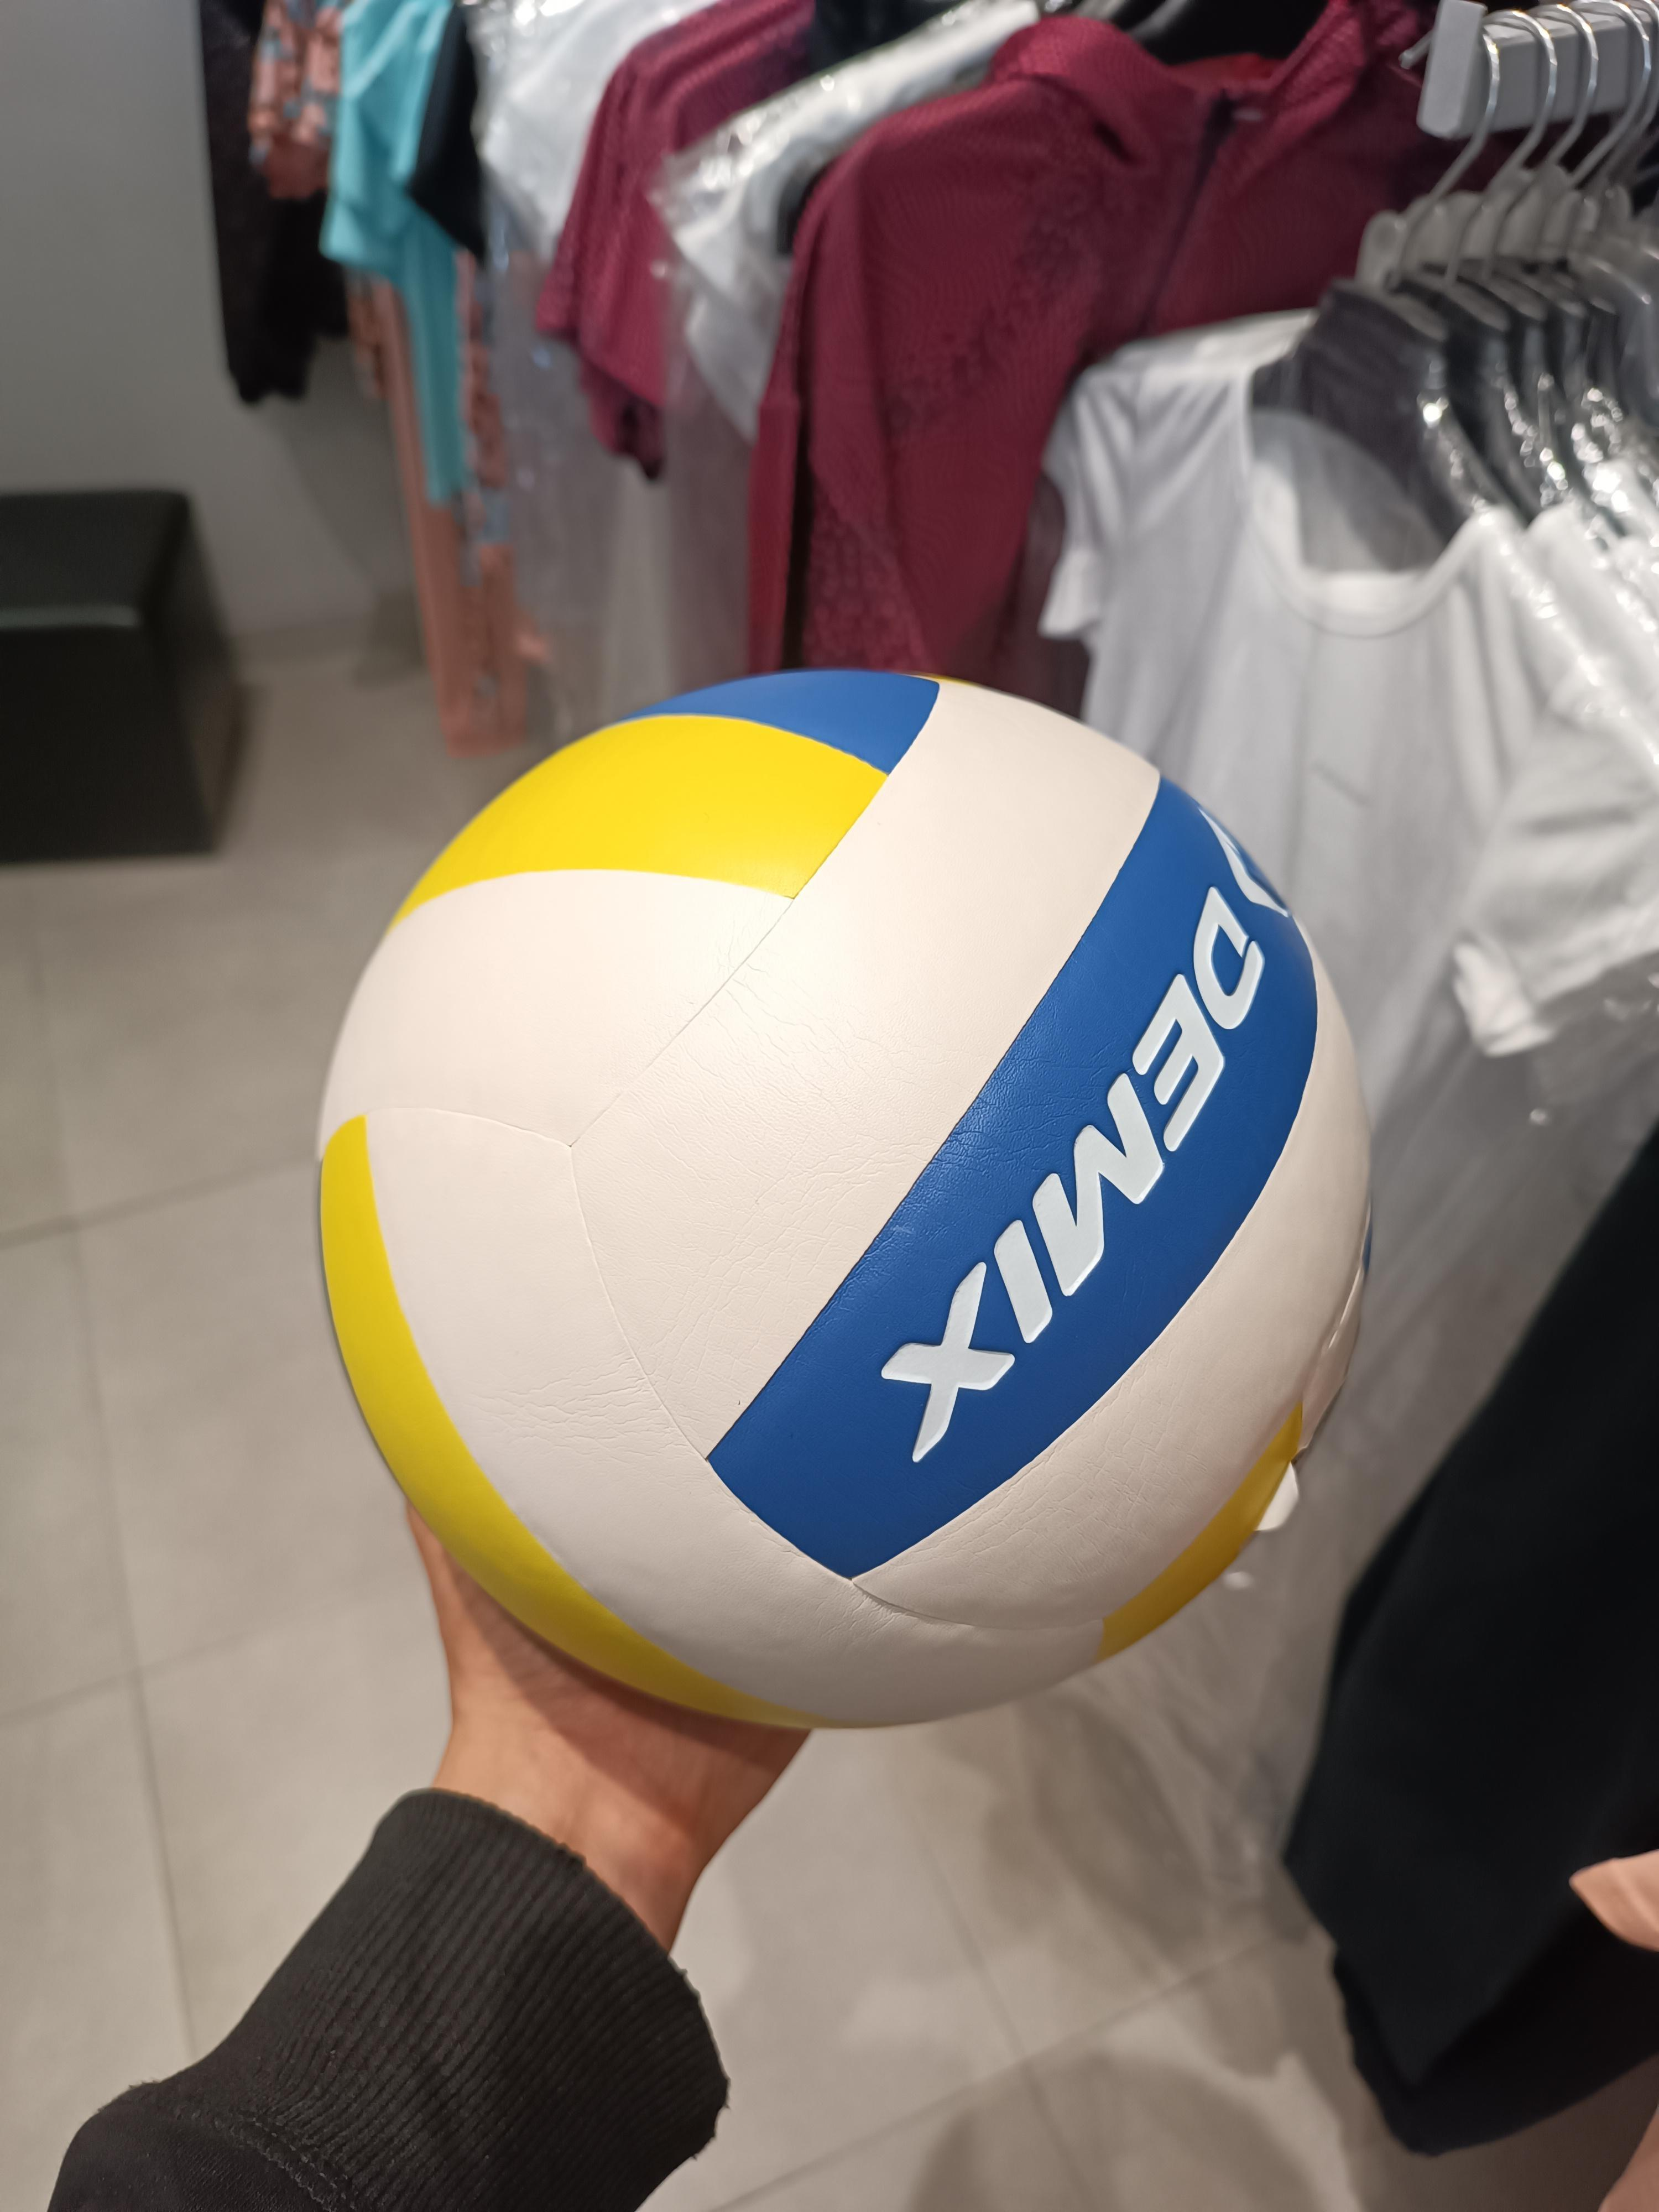Sports-Ball: (310, 648, 1412, 1766)
